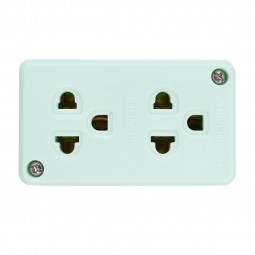Three_eye_plug: (13, 53, 239, 197)
